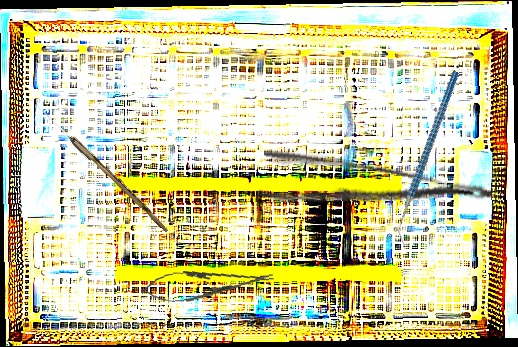Chopper: (348, 69, 510, 246)
Dressing Forceps: (256, 145, 494, 238)
Needle Holder: (139, 262, 276, 307)
Surgical Spoon: (33, 103, 172, 233)
